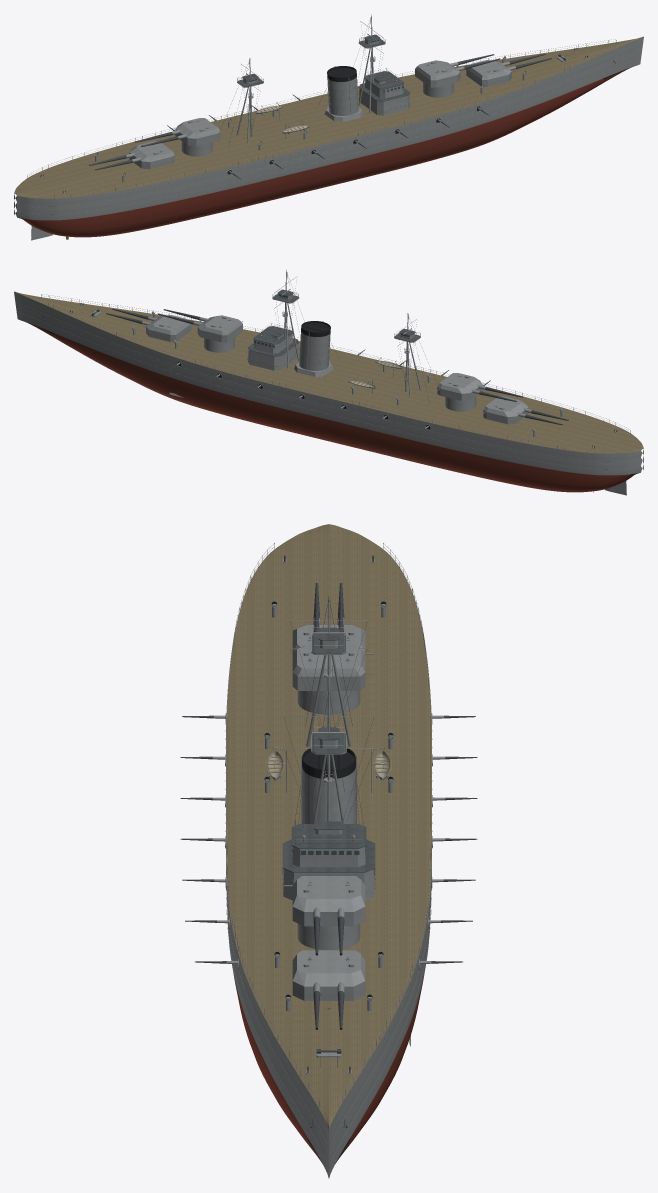
Rendered from revenge.glb.
The picture shows the model from 3 angles, top to bottom: view 1: azimuth 30°, elevation 25°; view 2: azimuth 150°, elevation 25°; view 3: azimuth 270°, elevation 25°; orthographic projection. The views are drawn at different scales.
Visible parts, largest first — view 1: Revenge class; view 2: Revenge class; view 3: Revenge class.
Part boxes in pixels (x1,y1,x2,y2): Revenge class: [14, 14, 643, 240]; Revenge class: [14, 269, 643, 495]; Revenge class: [180, 524, 477, 1178].
Size of the model in its own units: 190 by 42.03 by 38.86.
Materials: 9 (8 with a texture image).
